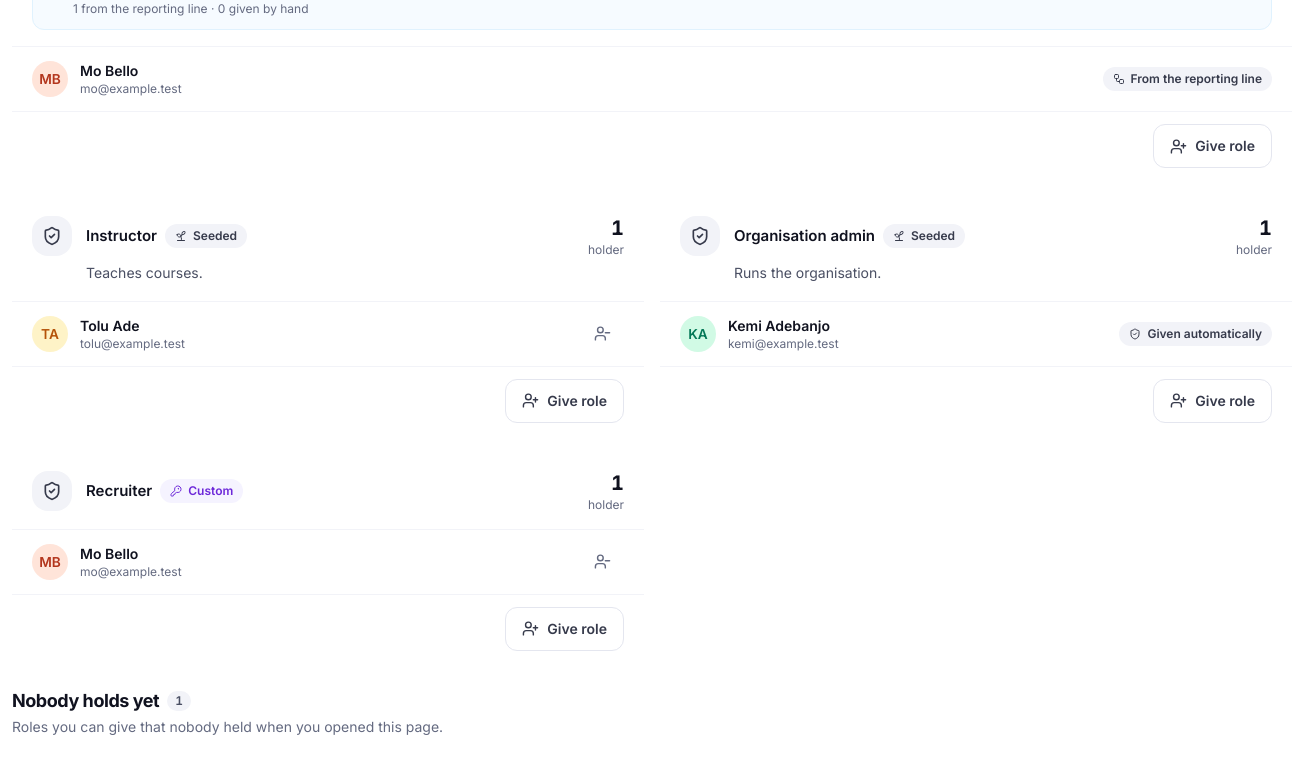
Test: HrRolesBoard › shows the API's refusal under the picker
The image size is (1292, 769).
(page scrolled)
Click the button with aria-label "Give role: Instructor". click: click(565, 401)
box: [505,379,624,423]
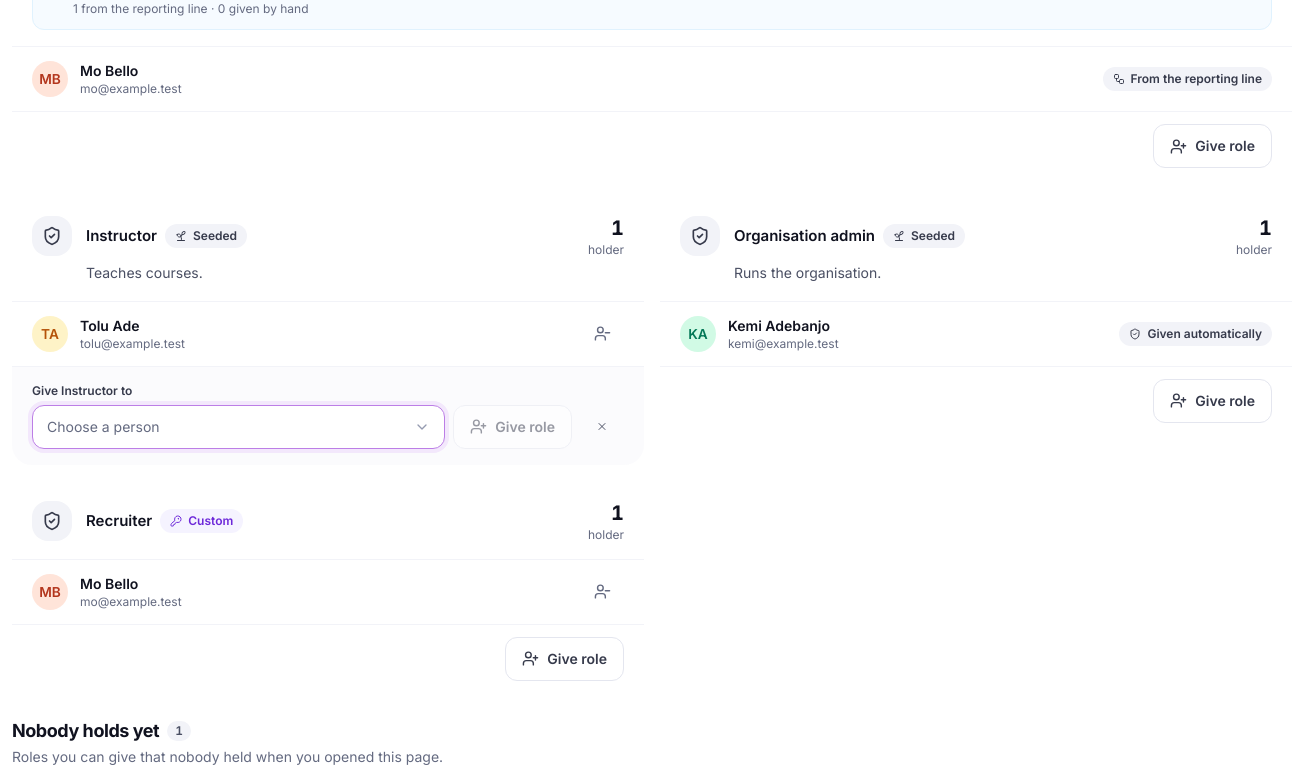
Expected: the dropdown named "Give Instructor to" is enabled
Click the dropdown named "Give Instructor to". click: click(103, 426)
box: [32,405,445,449]
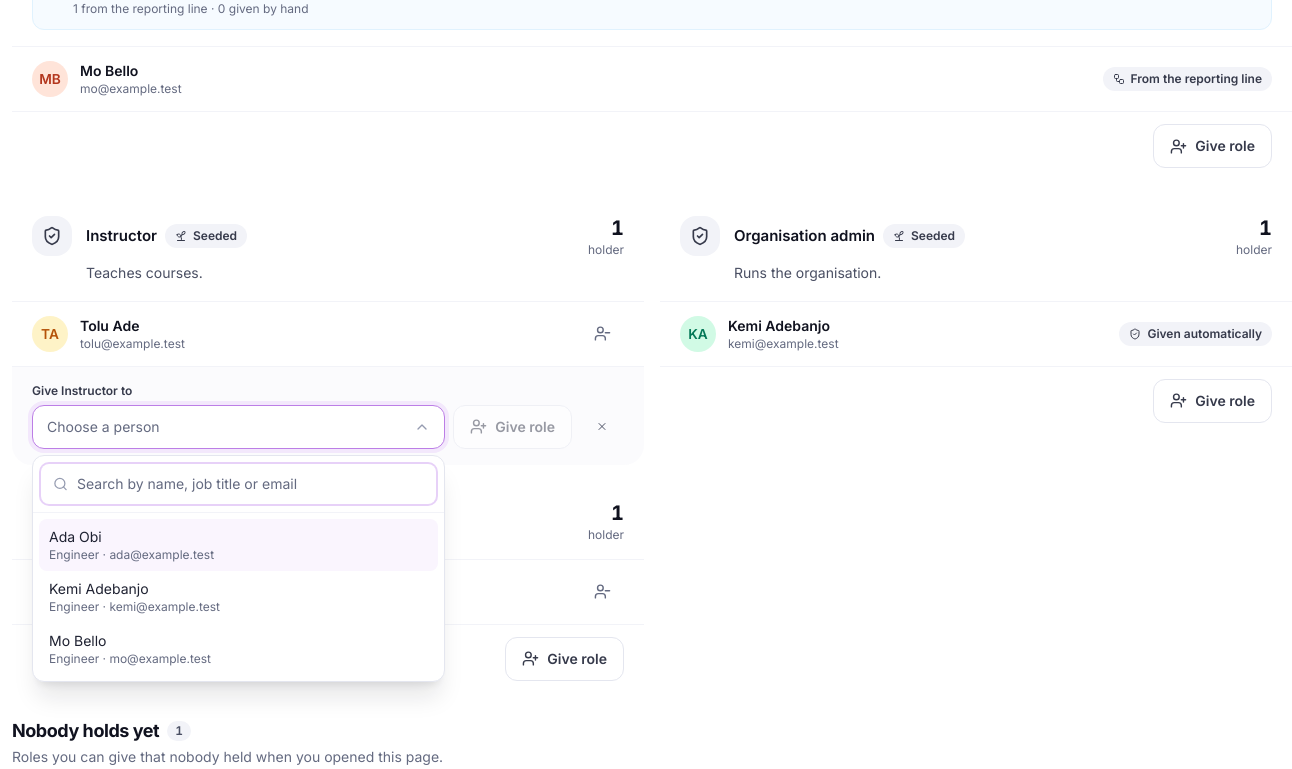
Type keys "Ada Obi"
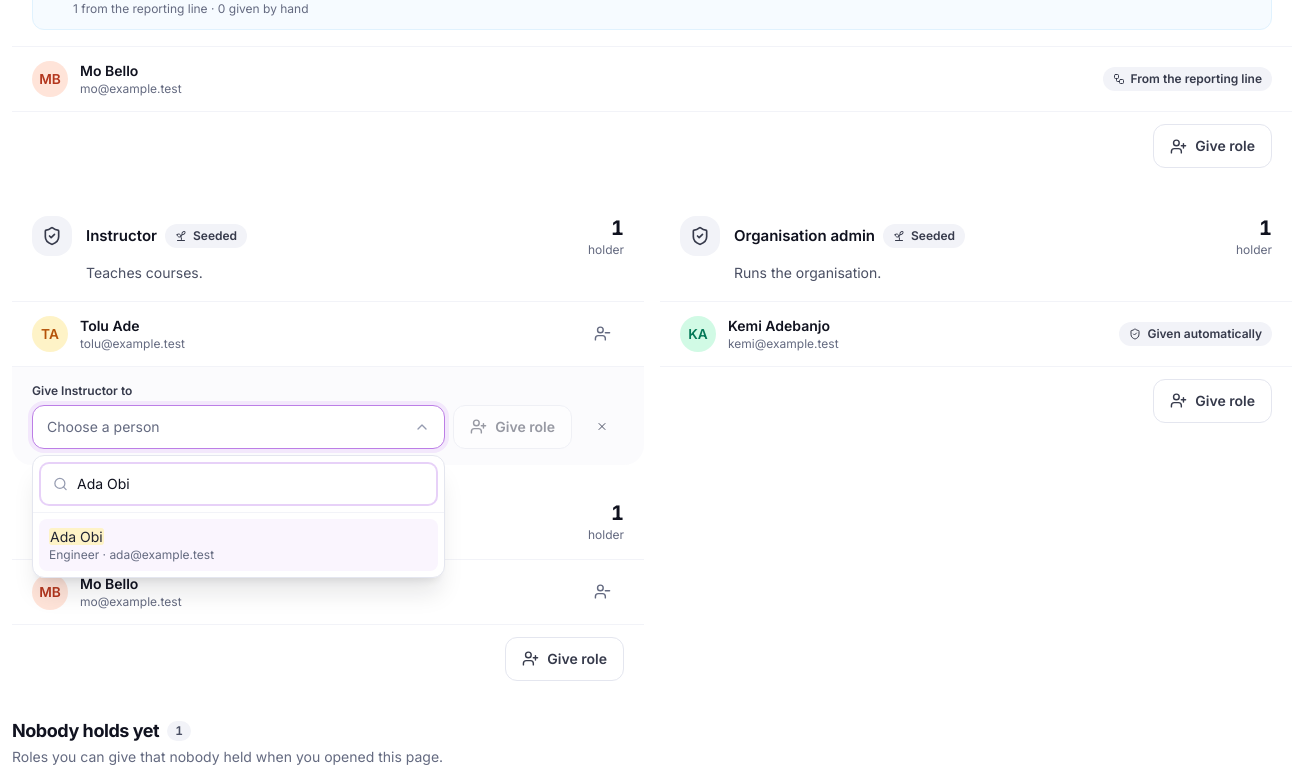
Click the option "Ada Obi Engineer · ada@example.test". click: click(76, 536)
box: [39,519,438,571]
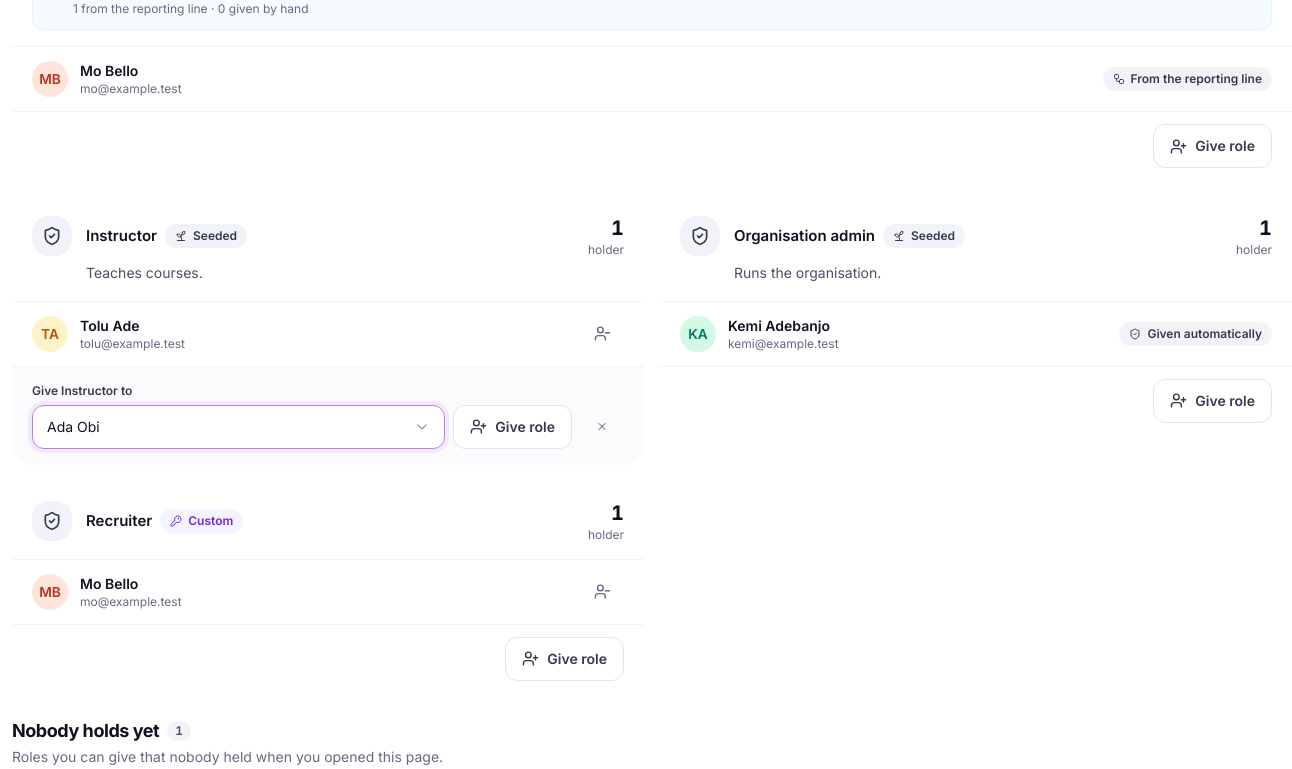
Click the button "Give role" below "Teaches courses.". click: click(513, 427)
box: [453,405,572,449]
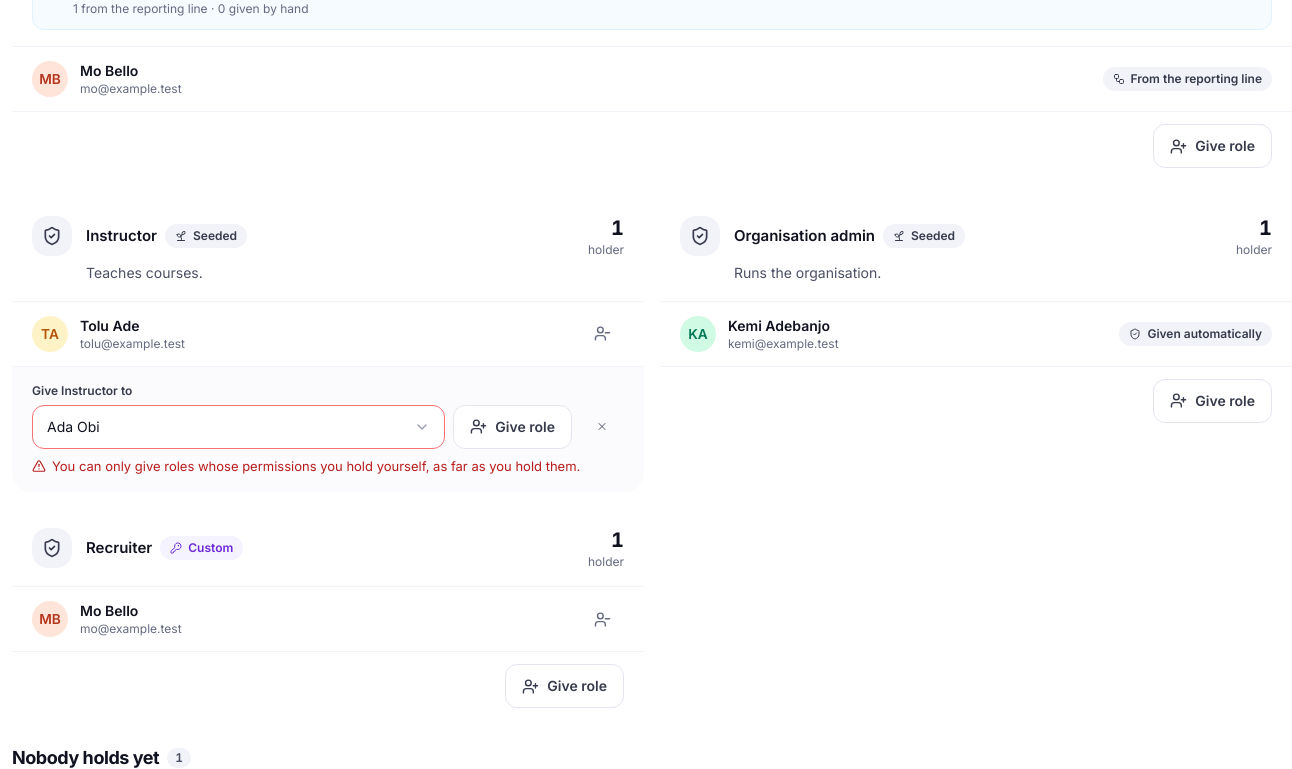
Expected: the text "You can only give roles whose permissions you hold yourself, as far as you hold them." is shown, [52,458,580,474]
